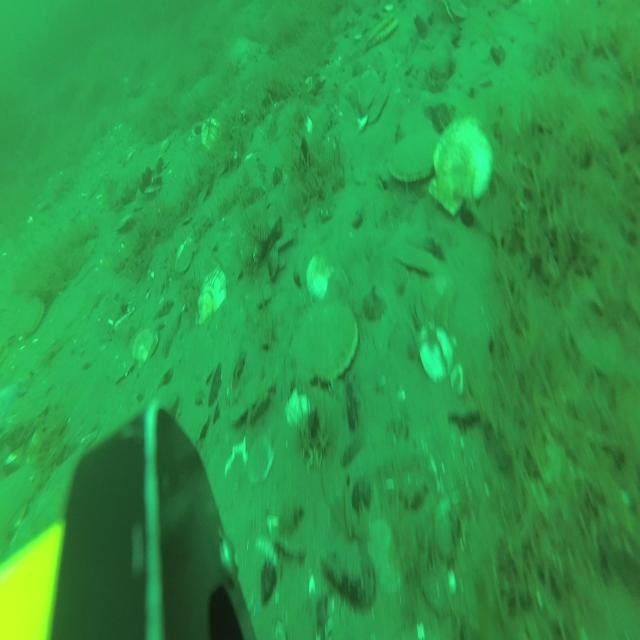scallop: (431, 119, 495, 215), (293, 299, 356, 383), (386, 128, 440, 180), (416, 319, 453, 379), (308, 255, 349, 306), (198, 266, 226, 324), (367, 10, 398, 47), (19, 296, 44, 338), (358, 66, 378, 116), (327, 272, 351, 312), (174, 232, 196, 274), (368, 82, 389, 125), (135, 327, 159, 364), (200, 117, 220, 154)
starfish: (0, 380, 27, 430), (230, 32, 259, 69)
